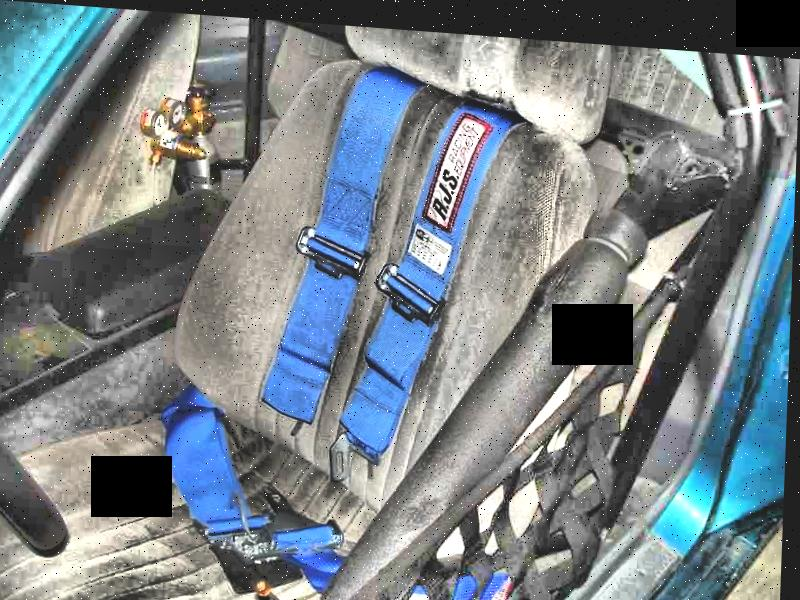seatbelt: (334, 92, 503, 483), (257, 64, 416, 460), (121, 386, 375, 590)
